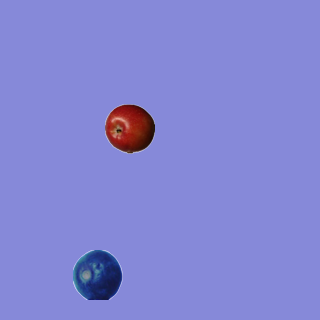Apple Braeburn: (104, 103, 154, 153)
Huckleberry: (72, 249, 122, 299)
